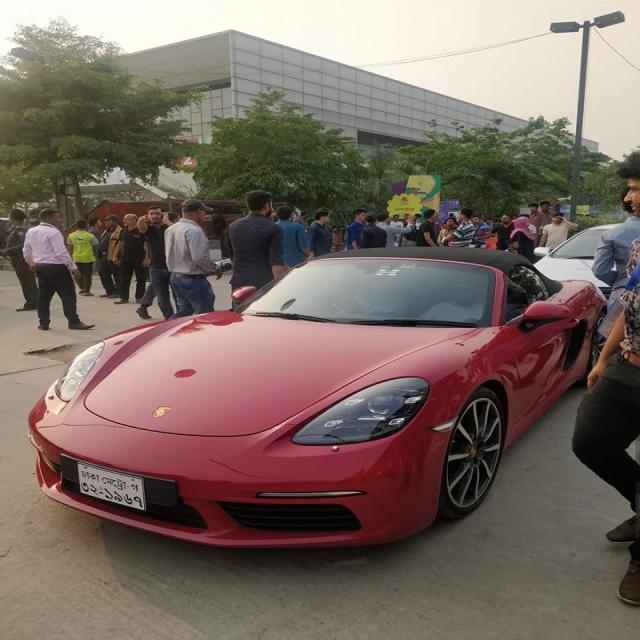numberplate: (75, 462, 146, 512)
